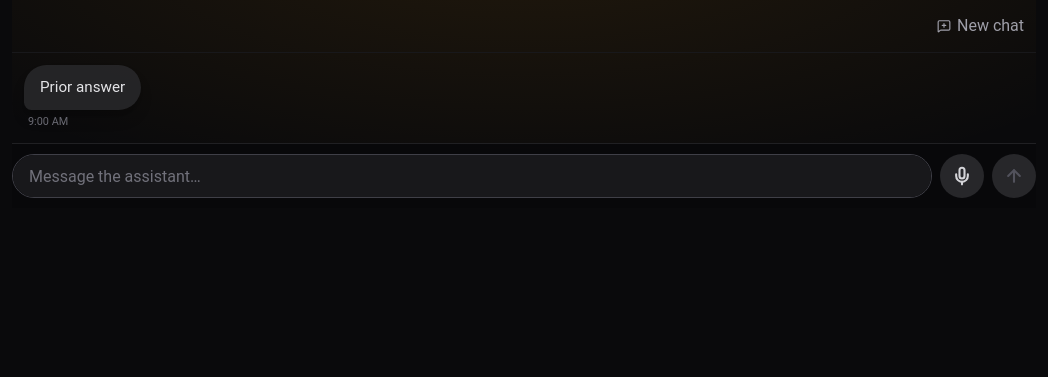
Test: CustomerAsk › loads persisted scoped history and New chat clears it only after reset succeeds
The width and height of the screenshot is (1048, 377).
Expected: the text "Prior answer" is shown, [40,75,125,100]
Click the button "New chat". click: (980, 26)
box: [925,8,1036,44]
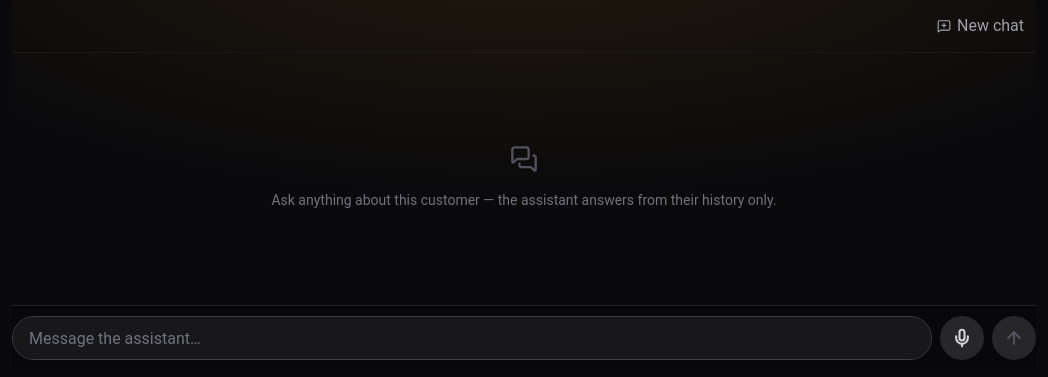
Now the text "Prior answer" is gone
